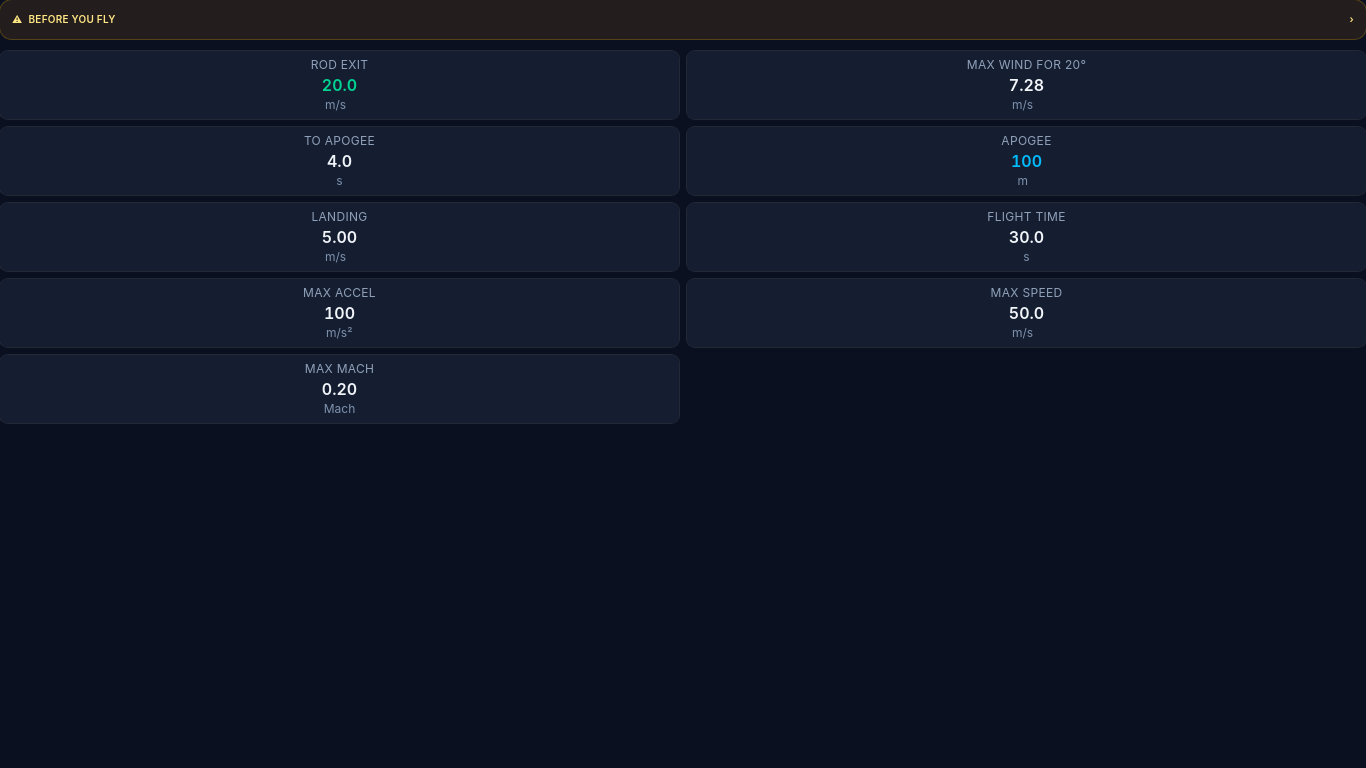
Scenario: SafetyCard folding › needs no acknowledgment to open it back up
The width and height of the screenshot is (1366, 768).
What coordinates should you click on to do the following:
click the button "⚠ Before you fly ›"
I would click on:
 (72, 19)
Its box is [12, 12, 1354, 27].
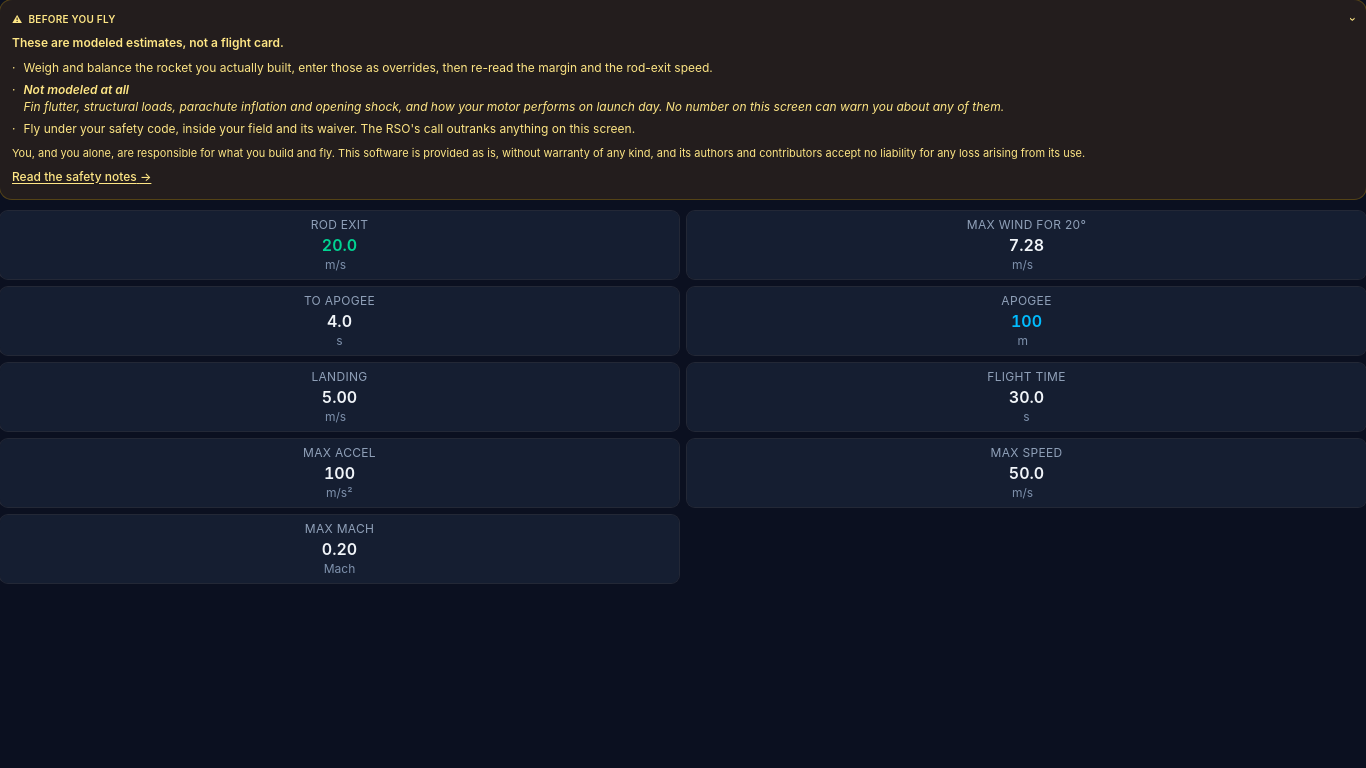
Check: the text "Not modeled at all" is shown, box [24, 82, 129, 97]
